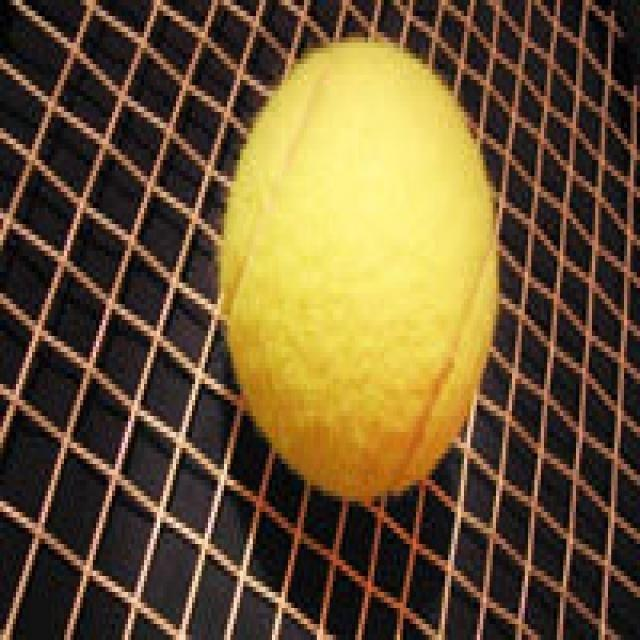ball: (216, 38, 501, 502)
